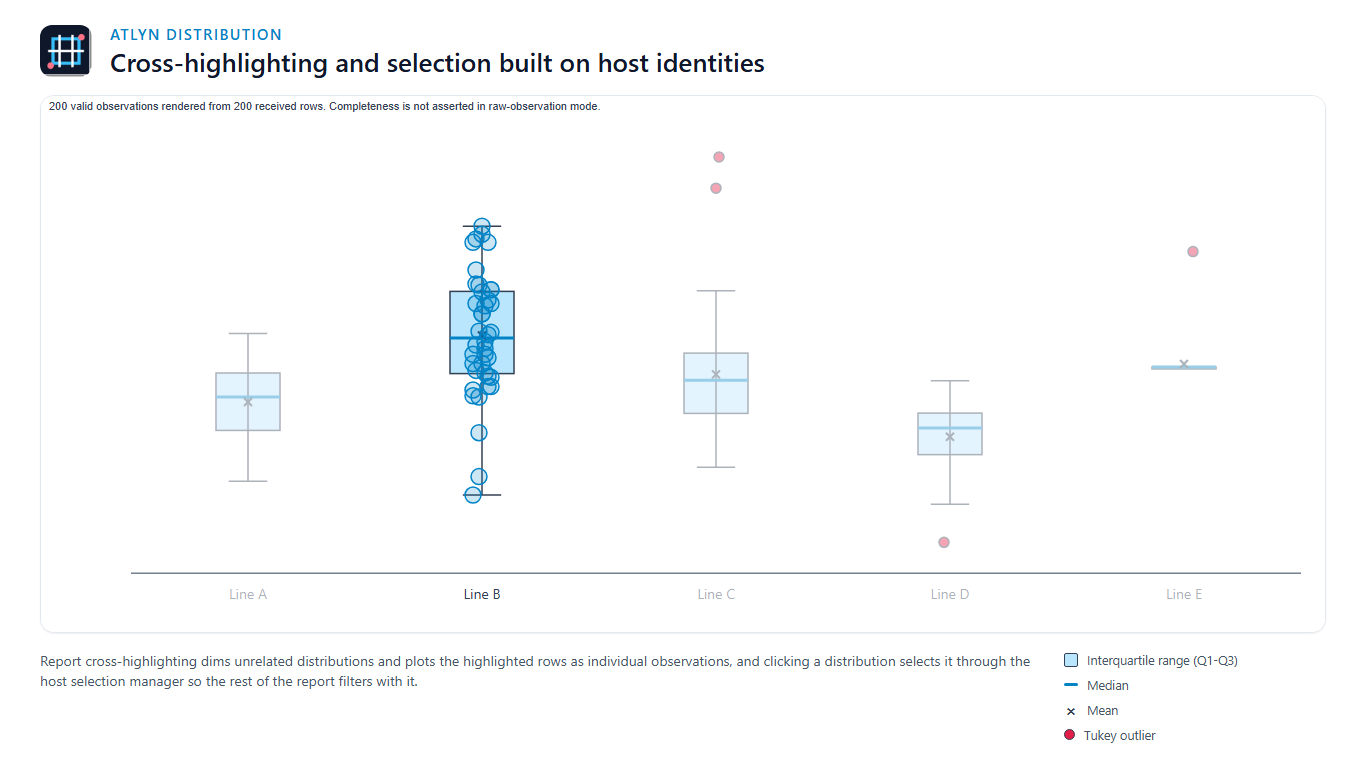

Layout of this report page (visuals, bound fields, positions):
{"tool":"powerbi","page":{"name":"Cycle time distribution","canvas":[1280,720],"ordinal":0},"visuals":[{"type":"atlynDistributionA1B2C3D4E5F6G7H8I9J0","title":"Cycle time distribution by production line","fields":{"Category":["Measurements.Category"],"Sample":["Measurements.Sample"],"Value":["Sum(Measurements.Value)"]},"box":[40,40,1200,620],"z":0}]}

Visuals, with their boxes in screenshot pixels (x1, y1, x2, y2), scaled from the page's 1280x720 canvas onto the 1366x768 screenshot:
"Cycle time distribution by production line" atlynDistributionA1B2C3D4E5F6G7H8I9J0: 43/43/1323/704
